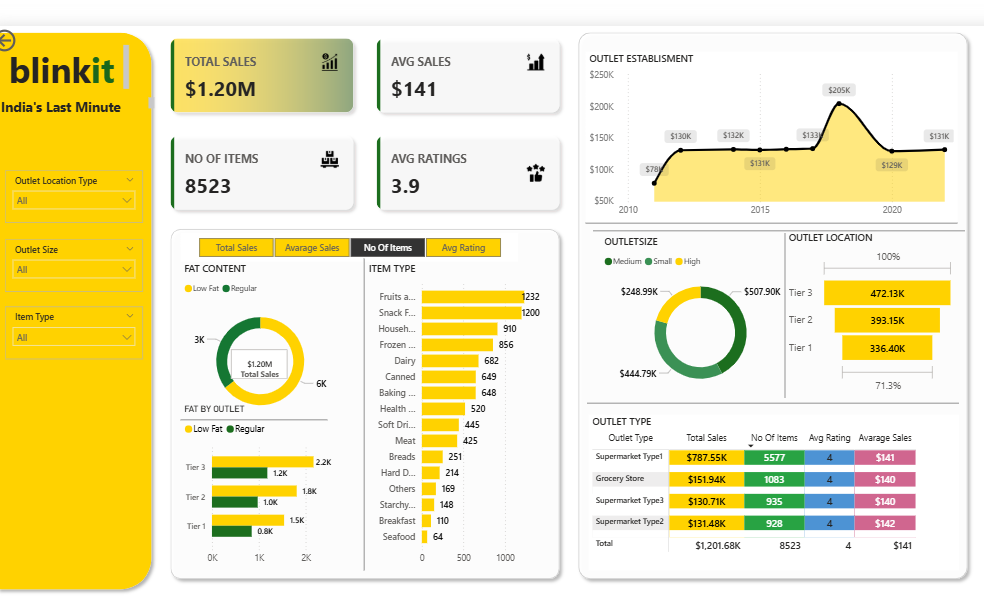

Layout of this report page (visuals, bound fields, positions):
{"tool":"powerbi","page":{"name":"Page 1","canvas":[1400,800],"ordinal":0},"visuals":[{"type":"shape","box":[0,0,231.5,785.4],"z":0},{"type":"textbox","box":[10.3,20.7,186,72.3],"z":1000},{"type":"textbox","box":[10.3,93,221.2,37.2],"z":2000},{"type":"cardVisual","fields":{"Data":["BlinkIT Grocery Data.Total Sales","BlinkIT Grocery Data.Avarage Sales","BlinkIT Grocery Data.No Of Items","BlinkIT Grocery Data.Avg Rating"]},"box":[231.5,0,570.5,270.8],"z":3000},{"type":"shape","box":[239.8,270.8,553.9,500.2],"z":4000},{"type":"donutChart","title":"FAT CONTENT","fields":{"Y":["BlinkIT Grocery Data.No Of Items"],"Series":["BlinkIT Grocery Data.Item Fat Content"]},"box":[262.5,324.5,219.1,229.4],"z":5000},{"type":"slicer","fields":{"Values":["Matrics.Matrics"]},"box":[262.5,285.2,465.1,39.3],"z":6000},{"type":"cardVisual","fields":{"Data":["BlinkIT Grocery Data.Total Sales"]},"box":[326.6,440.3,88.9,51.7],"z":7000},{"type":"clusteredBarChart","title":"FAT BY OUTLET","fields":{"Y":["BlinkIT Grocery Data.No Of Items"],"Category":["BlinkIT Grocery Data.Outlet Location Type"],"Series":["BlinkIT Grocery Data.Item Fat Content"]},"box":[262.5,520.9,219.1,229.4],"z":8000},{"type":"shape","box":[262.5,520.9,202.6,43.4],"z":9000},{"type":"shape","box":[494,320.4,43.4,429.9],"z":10000},{"type":"barChart","title":"ITEM TYPE","fields":{"Y":["BlinkIT Grocery Data.No Of Items"],"Category":["BlinkIT Grocery Data.Item Type"]},"box":[516.7,324.5,258.4,425.8],"z":11000},{"type":"shape","box":[802,0,553.9,771],"z":12000},{"type":"lineChart","title":"OUTLET ESTABLISMENT","fields":{"Category":["BlinkIT Grocery Data.Outlet Establishment Year"],"Y":["BlinkIT Grocery Data.Total Sales"]},"box":[820.6,35.1,512.6,235.6],"z":13000},{"type":"shape","box":[820.6,250.1,512.6,43.4],"z":14000},{"type":"donutChart","title":"OUTLETSIZE","fields":{"Category":["BlinkIT Grocery Data.Outlet Size"],"Y":["BlinkIT Grocery Data.Total Sales"]},"box":[841.2,287.3,275,225],"z":15000},{"type":"shape","box":[1076.9,285.2,37.2,227.4],"z":16000},{"type":"funnel","title":"OUTLET LOCATION","fields":{"Y":["Sum(BlinkIT Grocery Data.Sales)"],"Category":["BlinkIT Grocery Data.Outlet Location Type"]},"box":[1095.5,281.1,237.7,230],"z":17000},{"type":"shape","box":[822.6,498.1,512.6,43.4],"z":18000},{"type":"pivotTable","title":"OUTLET TYPE","fields":{"Rows":["BlinkIT Grocery Data.Outlet Type"],"Values":["BlinkIT Grocery Data.Total Sales","BlinkIT Grocery Data.No Of Items","BlinkIT Grocery Data.Avg Rating","BlinkIT Grocery Data.Avarage Sales"]},"box":[824.7,535.3,510.5,215],"z":19000},{"type":"actionButton","box":[0,0,100,40],"z":20000},{"type":"slicer","fields":{"Values":["BlinkIT Grocery Data.Outlet Location Type"]},"box":[20.7,198.4,190.2,72.3],"z":21000},{"type":"shape","box":[830.6,260.1,512.6,43.4],"z":22000},{"type":"slicer","fields":{"Values":["BlinkIT Grocery Data.Outlet Size"]},"box":[20.7,293.5,190.2,72.3],"z":23000},{"type":"slicer","fields":{"Values":["BlinkIT Grocery Data.Item Type"]},"box":[20.7,386.5,190.2,72.3],"z":24000}]}

Visuals, with their boxes on the page's 1400x800 design canvas (x1, y1, x2, y2). These are canvas units, not pixel positions in the 984x599 screenshot, which may show the page scaled, cropped or inside an application window:
shape: (0,0,232,785)
textbox: (10,21,196,93)
textbox: (10,93,232,130)
cardVisual - BlinkIT Grocery Data.Total Sales x BlinkIT Grocery Data.Avarage Sales: (232,0,802,271)
shape: (240,271,794,771)
"FAT CONTENT" donutChart: (262,324,482,554)
slicer - Matrics.Matrics: (262,285,728,324)
cardVisual - BlinkIT Grocery Data.Total Sales: (327,440,416,492)
"FAT BY OUTLET" clusteredBarChart: (262,521,482,750)
shape: (262,521,465,564)
shape: (494,320,537,750)
"ITEM TYPE" barChart: (517,324,775,750)
shape: (802,0,1356,771)
"OUTLET ESTABLISMENT" lineChart: (821,35,1333,271)
shape: (821,250,1333,294)
"OUTLETSIZE" donutChart: (841,287,1116,512)
shape: (1077,285,1114,513)
"OUTLET LOCATION" funnel: (1096,281,1333,511)
shape: (823,498,1335,542)
"OUTLET TYPE" pivotTable: (825,535,1335,750)
actionButton: (0,0,100,40)
slicer - BlinkIT Grocery Data.Outlet Location Type: (21,198,211,271)
shape: (831,260,1343,304)
slicer - BlinkIT Grocery Data.Outlet Size: (21,294,211,366)
slicer - BlinkIT Grocery Data.Item Type: (21,386,211,459)
